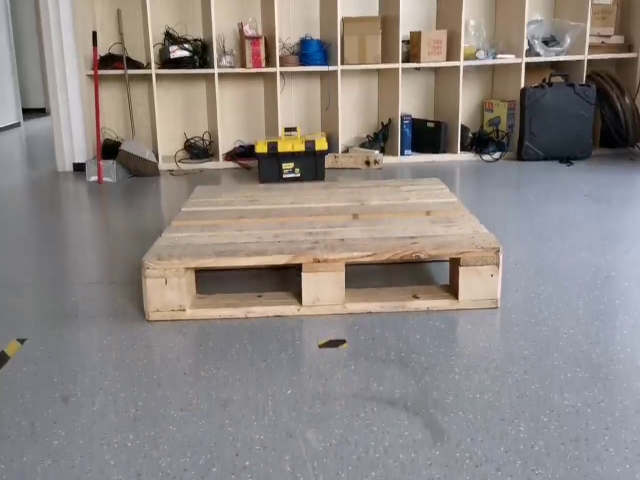block: (453, 252, 501, 313), (297, 263, 348, 320), (143, 261, 187, 318)
